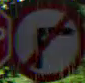Don't turn right: (11, 5, 81, 82)
